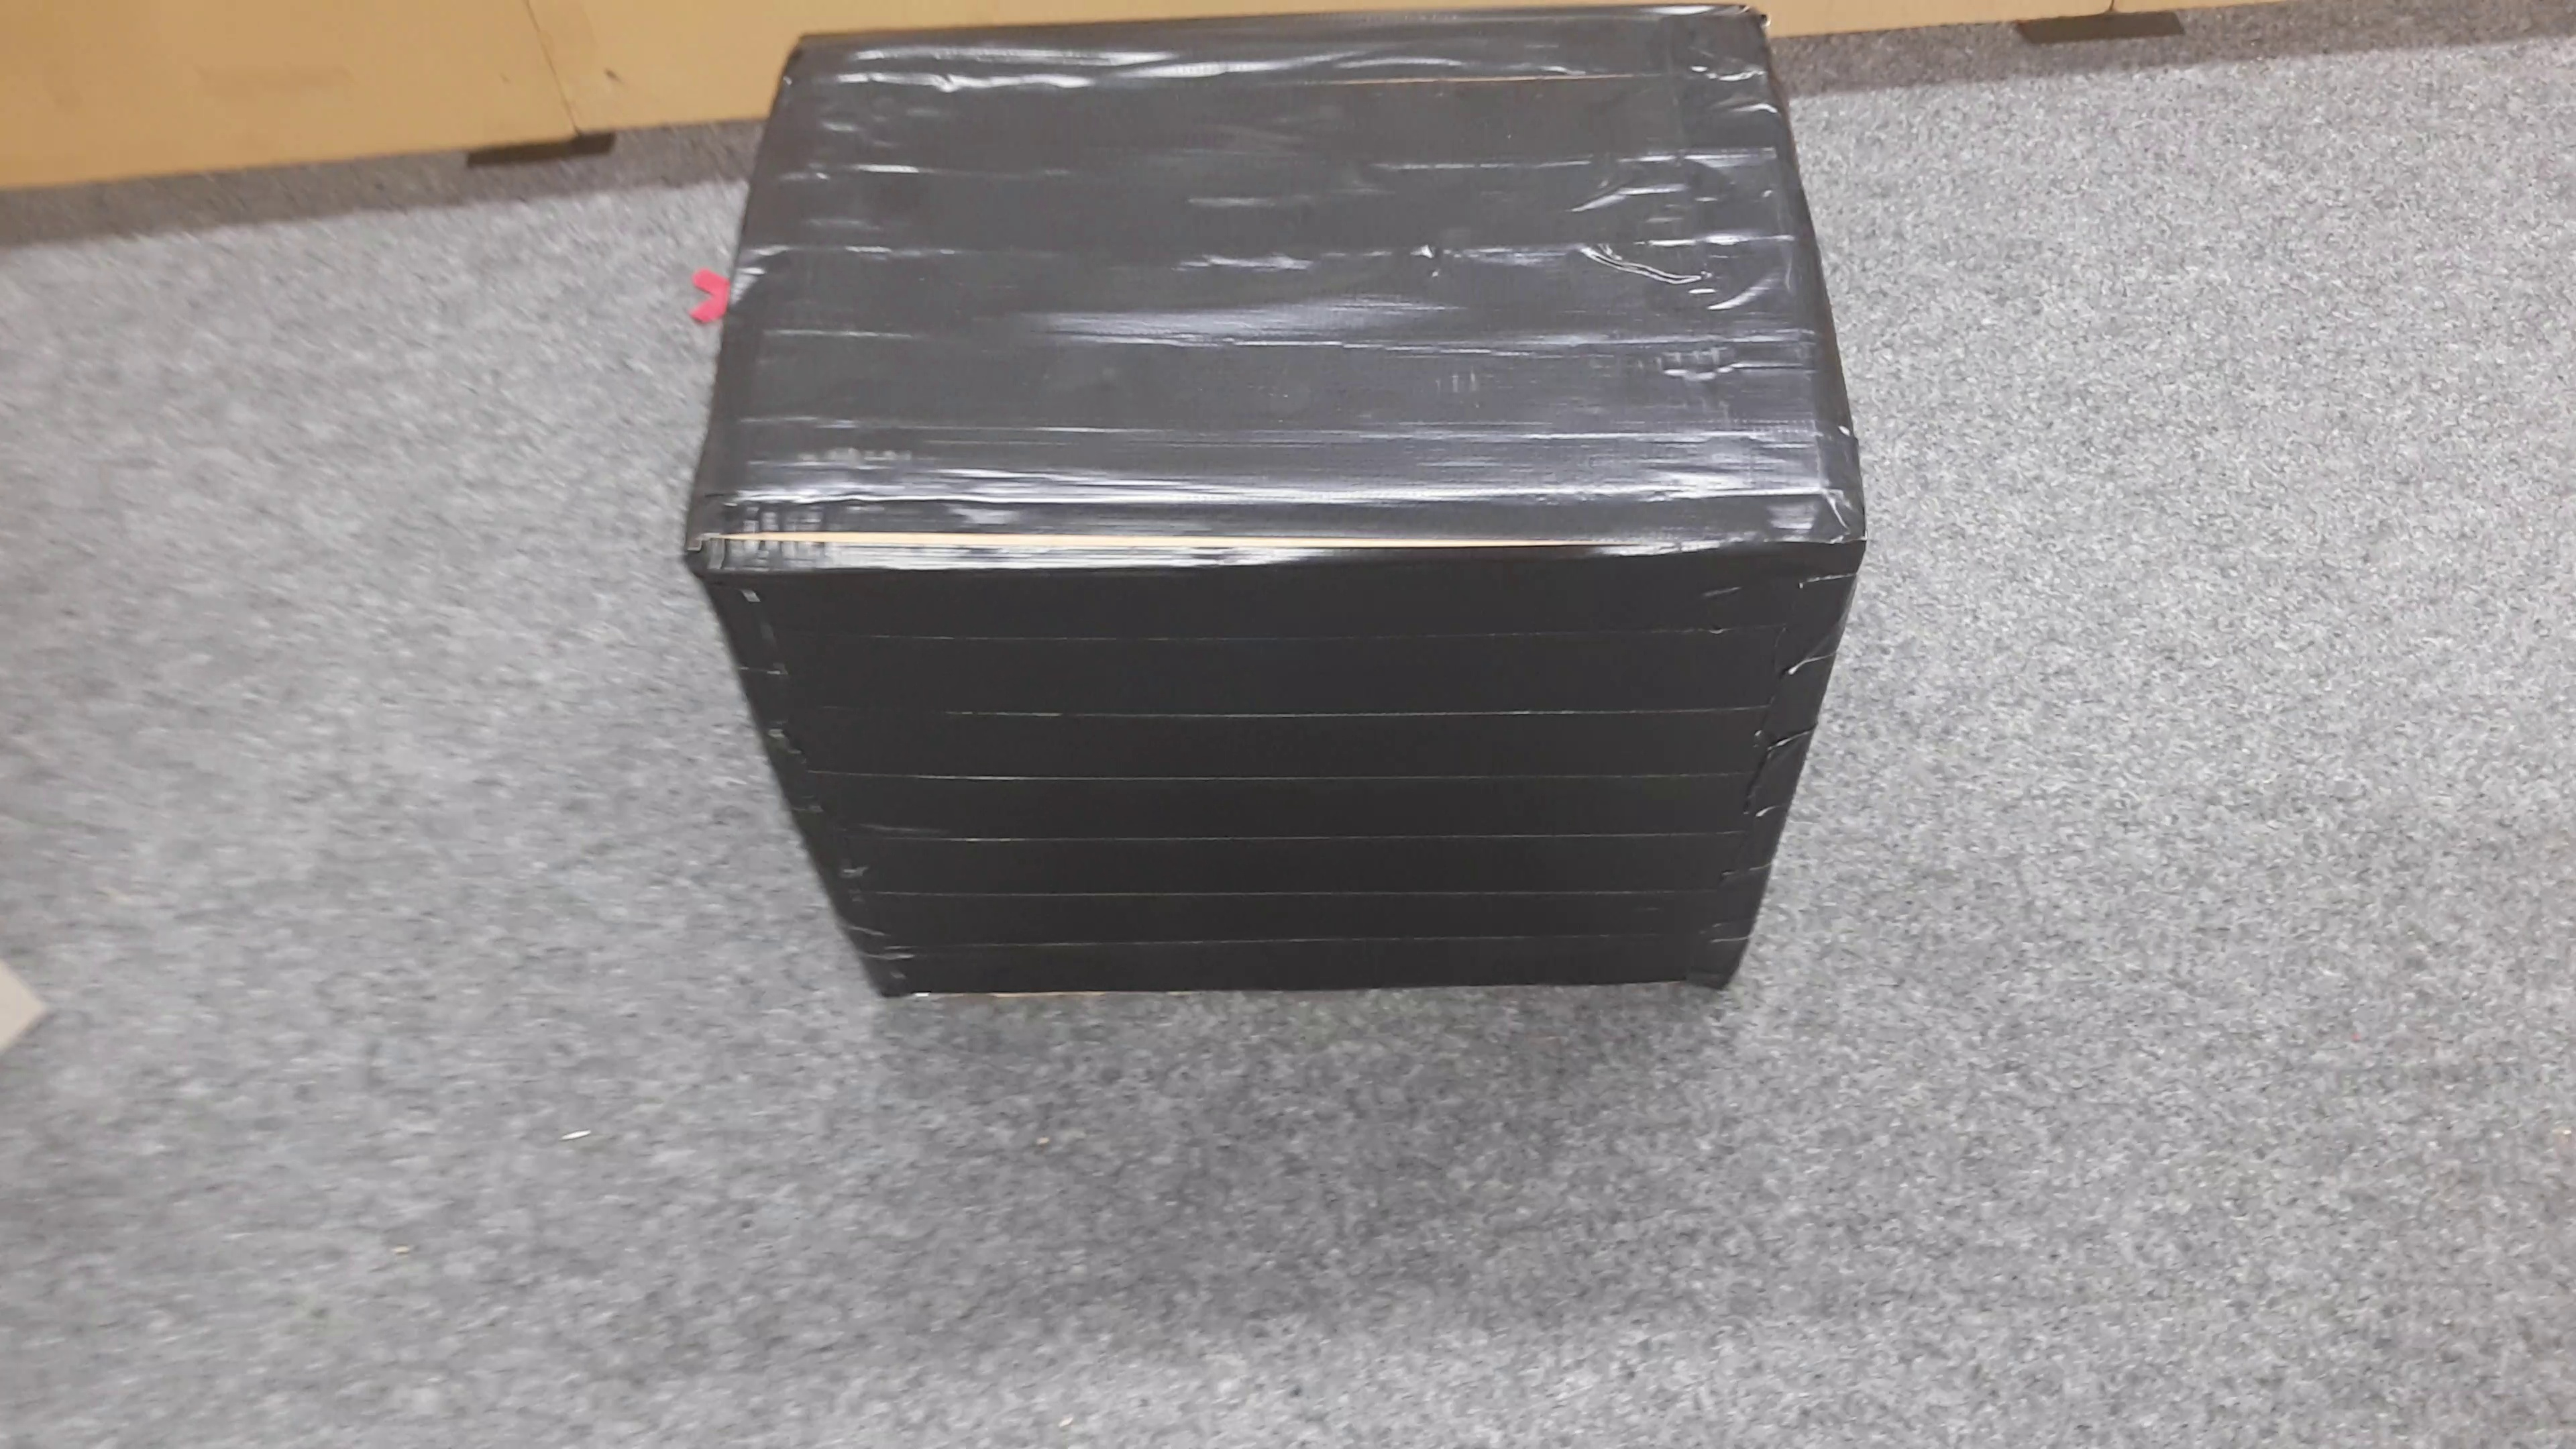push: (692, 30, 1870, 1012)
